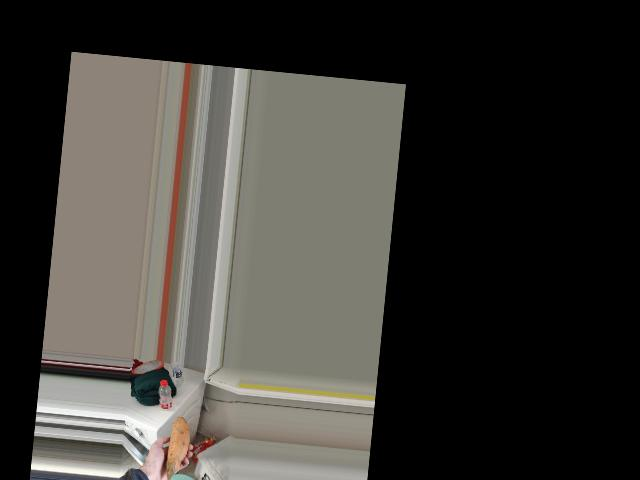sweet_potato: (164, 422, 191, 479)
